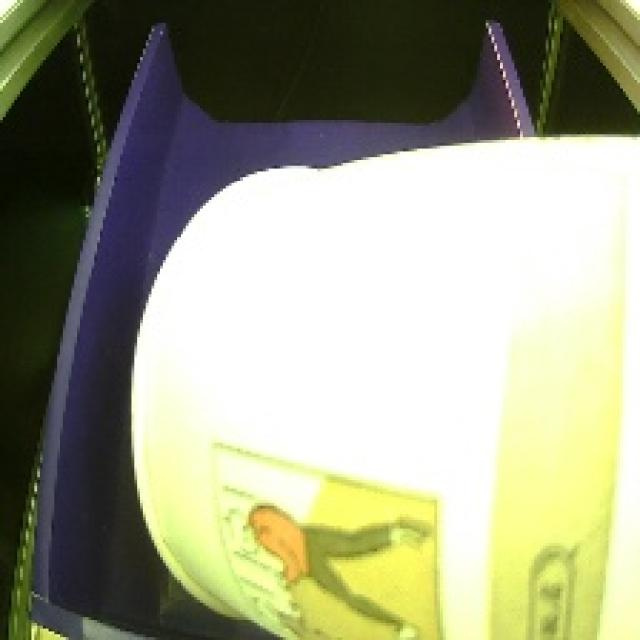cups: (110, 118, 639, 640)
